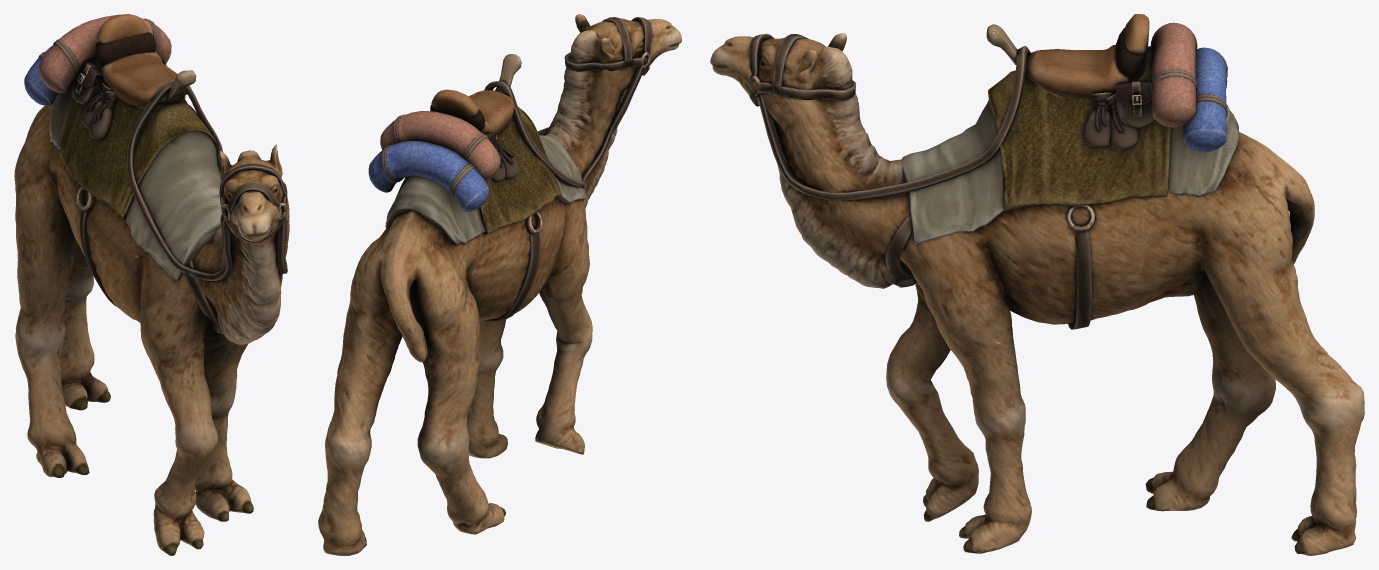
The model's file is MZ4250 - Camel Mount.glb.
The picture shows the model from 3 angles, left to right: view 1: azimuth 30°, elevation 25°; view 2: azimuth 150°, elevation 25°; view 3: azimuth 270°, elevation 25°; orthographic projection. The views are drawn at different scales.
Parts seen in each view (by area): view 1: Pouch Generic 2.001; view 2: Pouch Generic 2.001; view 3: Pouch Generic 2.001.
Part boxes in pixels (x1=…): Pouch Generic 2.001: x1=14, y1=14, x2=289, y2=555; Pouch Generic 2.001: x1=318, y1=14, x2=681, y2=555; Pouch Generic 2.001: x1=710, y1=14, x2=1364, y2=555.
Bounding box in the file's own units: 0.3372 × 1.08 × 1.25.
1 material, 1 textured.
